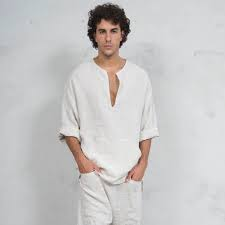middle_eastern_male: (96, 15, 129, 64)
